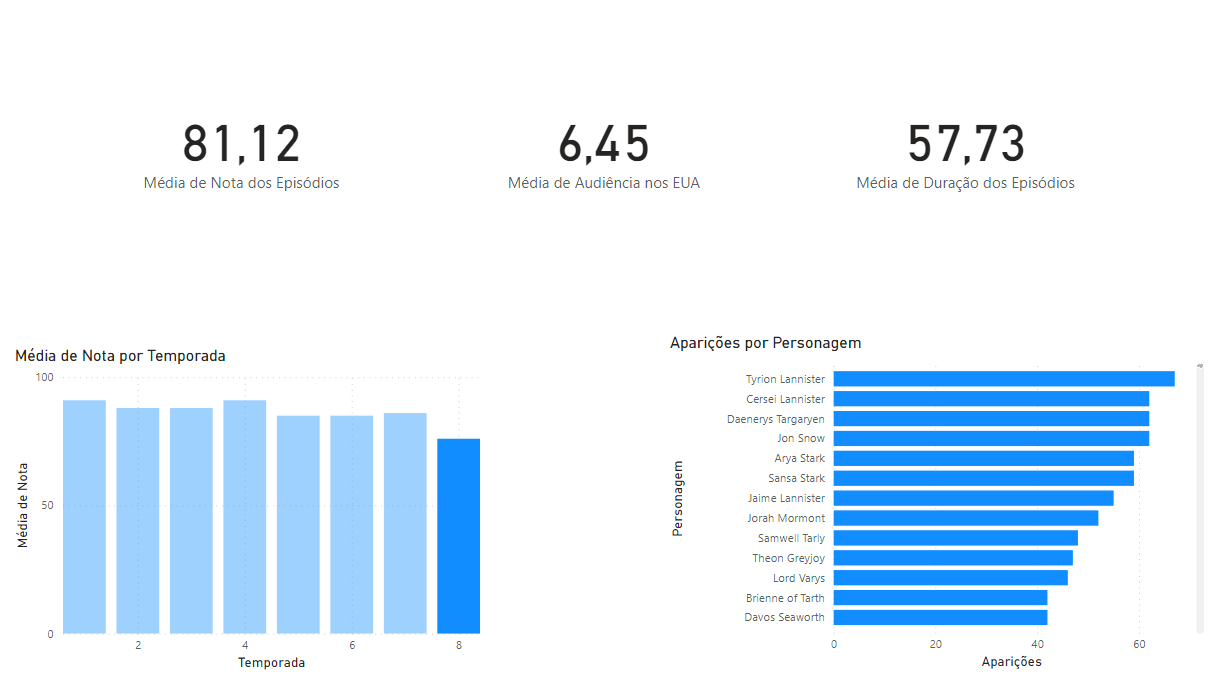

Layout of this report page (visuals, bound fields, positions):
{"tool":"powerbi","page":{"name":"Página 1","canvas":[1280,720],"ordinal":0},"visuals":[{"type":"barChart","fields":{"Y":["Sum(Personagens.Aparições)"],"Category":["Personagens.Personagem"]},"box":[705.5,360,574.5,360],"z":0},{"type":"card","fields":{"Values":["Avg(EP avaliação.Nota)"]},"box":[0,0,514.5,323.6],"z":1000},{"type":"card","fields":{"Values":["Avg(EP avaliação.Duração)"]},"box":[765.5,0,514.5,323.6],"z":2000},{"type":"card","fields":{"Values":["Avg(EP avaliação.Audiência nos EUA)"]},"box":[398.2,0,483.6,323.6],"z":3000},{"type":"clusteredColumnChart","fields":{"Y":["Avg(Episódios.Nota)"],"Category":["Episódios.Temporada"]},"box":[12.7,372.7,501.8,347.3],"z":4000}]}

Visuals, with their boxes in screenshot pixels (x1, y1, x2, y2), scaled from the page's 1280x720 canvas onto the 1208x674 screenshot:
barChart - Sum(Personagens.Aparições) x Personagens.Personagem: (666,337,1207,673)
card - Avg(EP avaliação.Nota): (0,0,486,303)
card - Avg(EP avaliação.Duração): (722,0,1207,303)
card - Avg(EP avaliação.Audiência nos EUA): (376,0,832,303)
clusteredColumnChart - Avg(Episódios.Nota) x Episódios.Temporada: (12,349,486,673)
